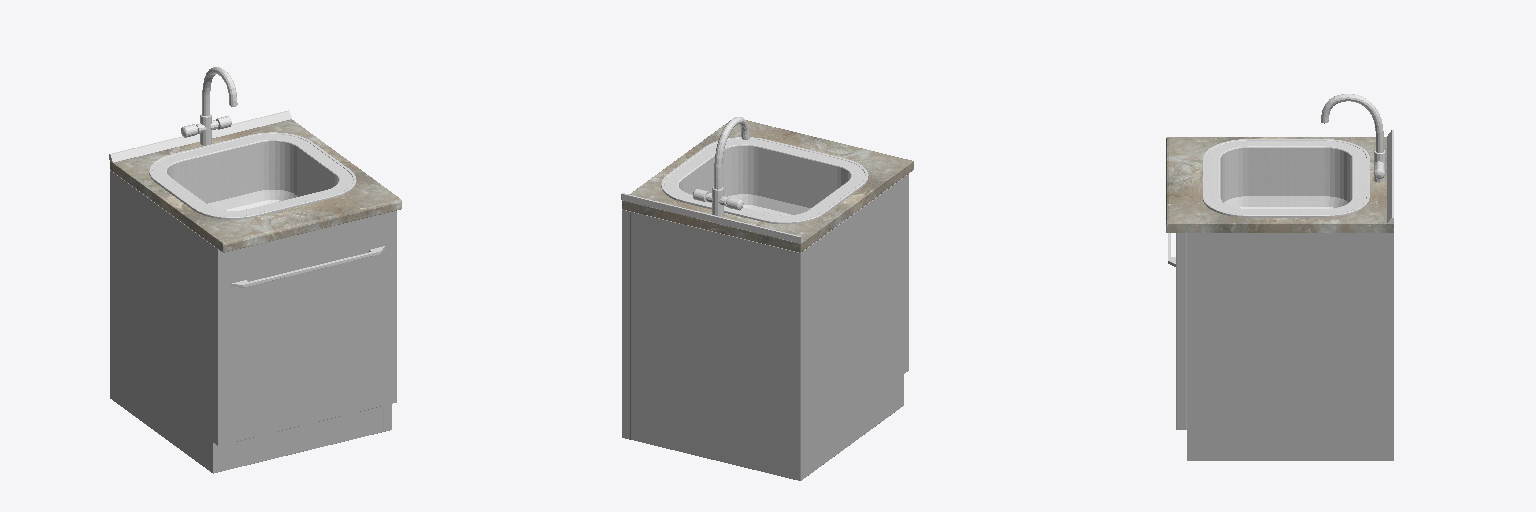
3 views of the same model, side by side, from view 1: azimuth 30°, elevation 25°; view 2: azimuth 150°, elevation 25°; view 3: azimuth 270°, elevation 25° (orthographic).
Size of the model in its own units: 0.6 by 1.03 by 0.66.
Materials: 4 (2 with a texture image).